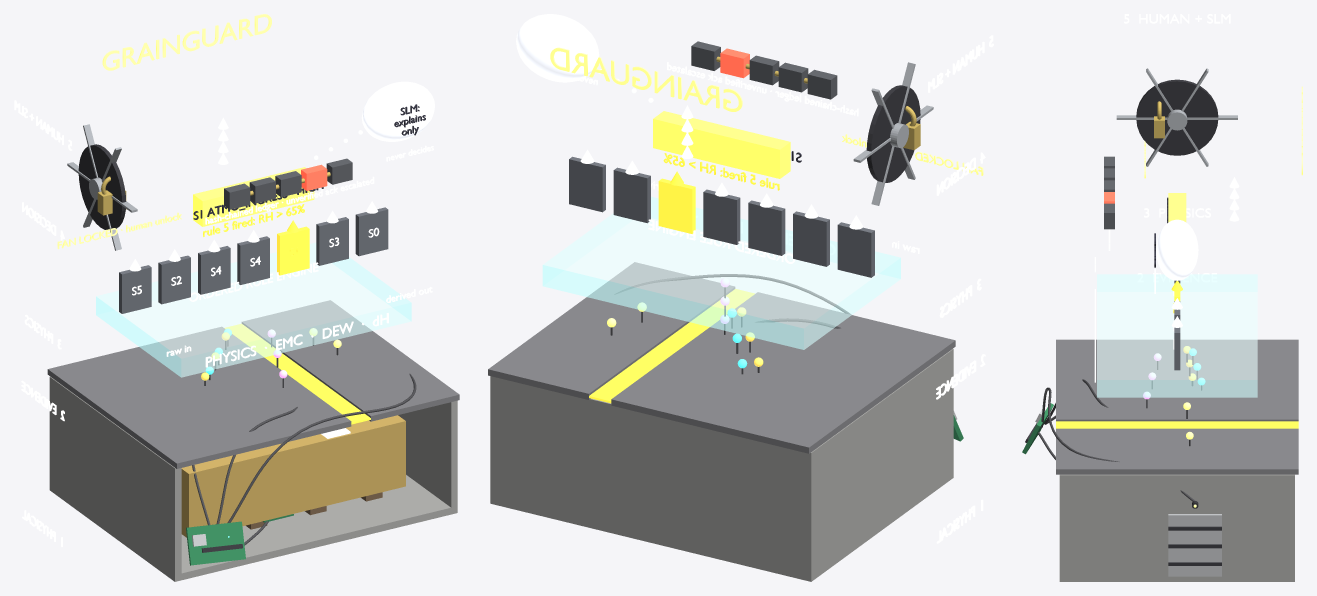
The model's file is grain_guard.glb.
3 views of the same model, side by side, from view 1: azimuth 30°, elevation 25°; view 2: azimuth 150°, elevation 25°; view 3: azimuth 270°, elevation 25° (orthographic). The views are drawn at different scales.
Visible parts, largest first — view 1: roof_L, physics_slab, grain_bulk, wall_left, roof_R, floor, wall_right, slm_bubble, fan_ring, roof_gap_marker, state_chip, uno_board (+18 smaller); view 2: wall_back, roof_L, physics_slab, wall_left, roof_R, state_chip, slm_bubble, floor, fan_ring, roof_gap_marker, title, gate_0 (+15 smaller); view 3: wall_right, physics_slab, roof_L, roof_R, fan_ring, shutter, slm_bubble, roof_gap_marker, floor, wall_back, state_chip, w_ldr (+1 smaller).
Boxes of the visible parts, box(x1,y1,x2,y2) form: roof_L: box(47, 327, 351, 468); physics_slab: box(96, 242, 411, 377); grain_bulk: box(181, 415, 405, 537); wall_left: box(50, 376, 181, 578); roof_R: box(242, 300, 459, 421); floor: box(49, 475, 457, 581); wall_right: box(398, 400, 457, 510); slm_bubble: box(361, 81, 434, 141); fan_ring: box(78, 144, 126, 229); roof_gap_marker: box(225, 324, 370, 424); state_chip: box(193, 167, 314, 226); uno_board: box(186, 521, 245, 565); wall_back: box(490, 376, 815, 577); roof_L: box(611, 292, 955, 453); physics_slab: box(542, 196, 900, 349); wall_left: box(804, 349, 953, 571); roof_R: box(488, 262, 734, 399); state_chip: box(653, 111, 790, 178); slm_bubble: box(516, 14, 599, 82); floor: box(490, 470, 953, 581); fan_ring: box(866, 85, 920, 182); roof_gap_marker: box(589, 289, 754, 403); title: box(550, 47, 742, 111); gate_0: box(837, 222, 874, 277); wall_right: box(1059, 474, 1287, 575); physics_slab: box(1097, 274, 1257, 397); roof_L: box(1056, 339, 1298, 421); roof_R: box(1056, 428, 1298, 474); fan_ring: box(1136, 79, 1218, 155); shutter: box(1168, 514, 1221, 576); slm_bubble: box(1156, 219, 1198, 280); roof_gap_marker: box(1056, 421, 1298, 428); floor: box(1059, 575, 1294, 581); wall_back: box(1288, 474, 1294, 575); state_chip: box(1168, 193, 1186, 222); w_ldr: box(1041, 387, 1195, 501).
Size of what is drawn, in the model's own units: 11.93 by 12.56 by 7.87.
